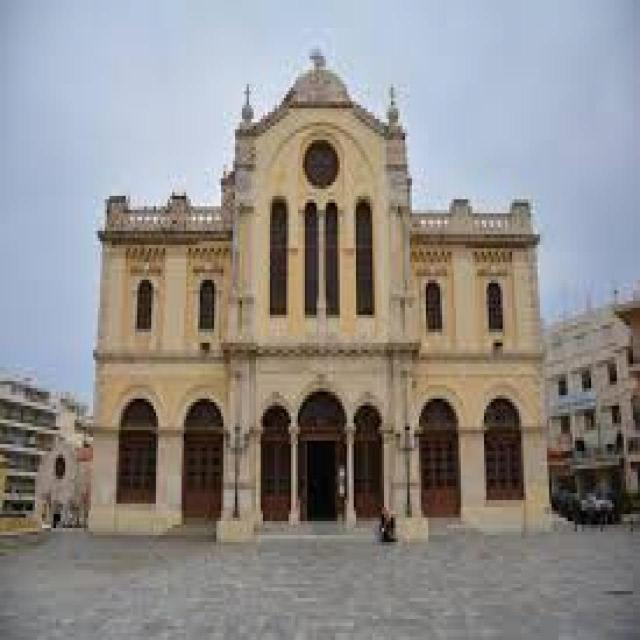Agios Minas: (88, 13, 552, 544)
